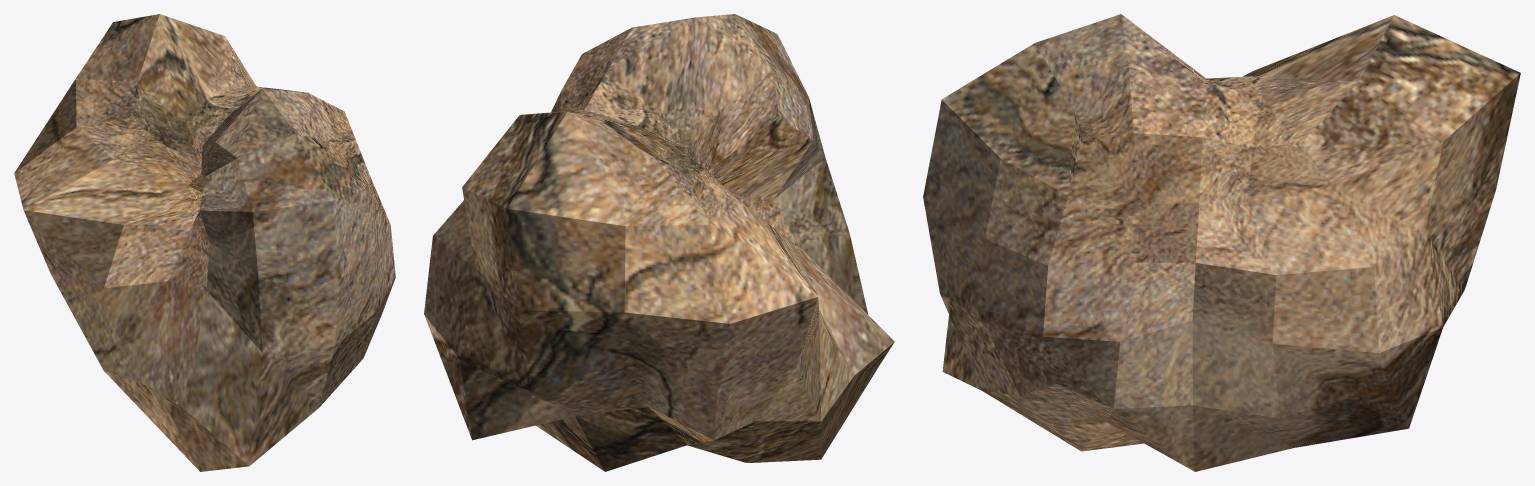
The model's file is asteroid.gltf.
3 renders of one model, left to right at view 1: azimuth 30°, elevation 25°; view 2: azimuth 150°, elevation 25°; view 3: azimuth 270°, elevation 25°, orthographic. The views are drawn at different scales.
Visible parts, largest first — view 1: Cube; view 2: Cube; view 3: Cube.
Boxes of the visible parts, x1,y1,x2,y2 form: Cube: [14, 14, 395, 471]; Cube: [424, 14, 894, 471]; Cube: [923, 14, 1520, 471].
Bounding box in the file's own units: 2.03 × 2.32 × 2.71.
Materials: 1 (1 with a texture image).
